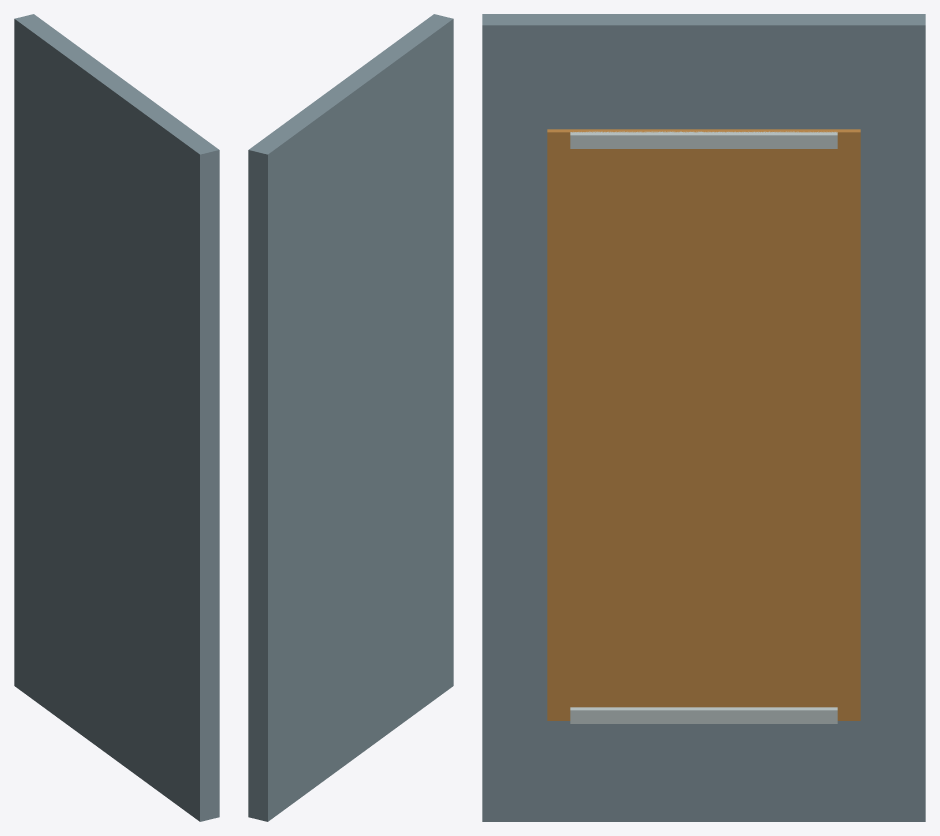
Rendered from Utility_CargoContainer_6m_Door_L.glb.
The picture shows the model from 3 angles, left to right: view 1: azimuth 30°, elevation 25°; view 2: azimuth 150°, elevation 25°; view 3: azimuth 270°, elevation 25°; orthographic projection. The views are drawn at different scales.
Parts seen in each view (by area): view 1: Utility_CargoContainer_6m_Door_L; view 2: Utility_CargoContainer_6m_Door_L; view 3: Utility_CargoContainer_6m_Door_L.
Part boxes in pixels (box(x1,y1,x2,y2)): Utility_CargoContainer_6m_Door_L: box(14, 14, 219, 821); Utility_CargoContainer_6m_Door_L: box(248, 14, 453, 821); Utility_CargoContainer_6m_Door_L: box(482, 14, 925, 821).
Size of the model in its own units: 0.1075 by 2.3 by 1.16.
